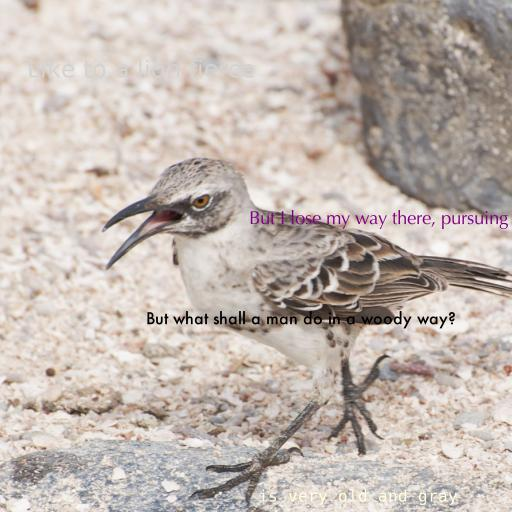Futura: (146, 311, 456, 329)
Menlo: (258, 489, 458, 505)
Optima: (248, 210, 508, 230)
Verdana: (27, 59, 255, 78)
